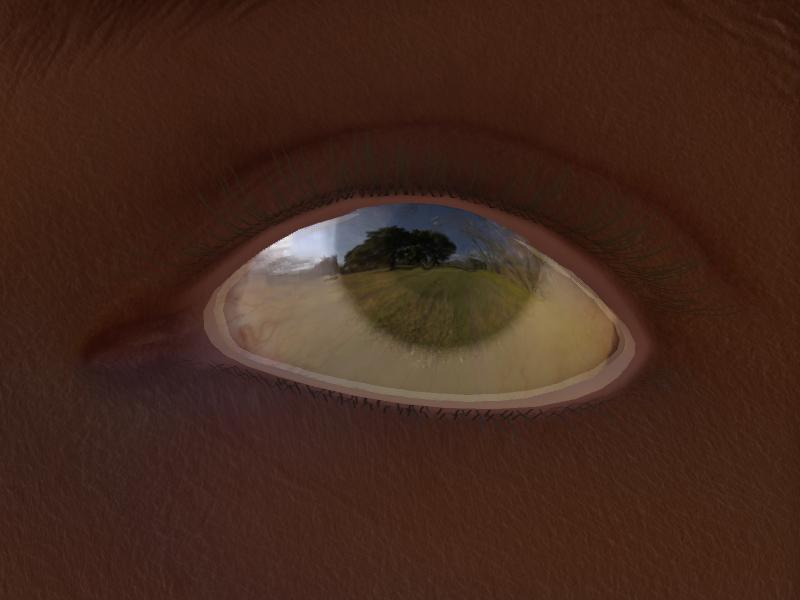eye: (336, 201, 541, 346)
